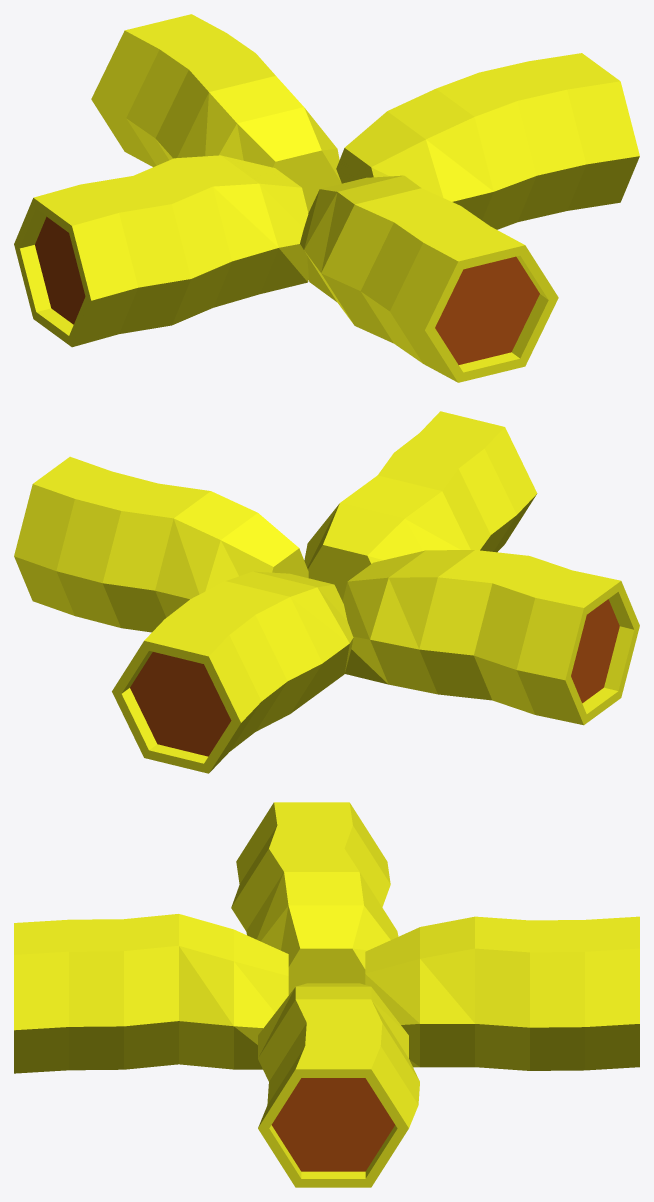
Rendered from fireLogs 1.fbx.
3 views of the same model, one above another, from view 1: azimuth 30°, elevation 25°; view 2: azimuth 150°, elevation 25°; view 3: azimuth 270°, elevation 25° (orthographic). The views are drawn at different scales.
Visible parts, largest first — view 1: Cylinder005; view 2: Cylinder005; view 3: Cylinder005.
Part boxes in pixels (left/top/right/bottom): Cylinder005: left=14, top=14, right=639, bottom=382; Cylinder005: left=14, top=411, right=639, bottom=773; Cylinder005: left=14, top=802, right=639, bottom=1187.
Bounding box in the file's own units: 85.48 × 17.71 × 84.7.
